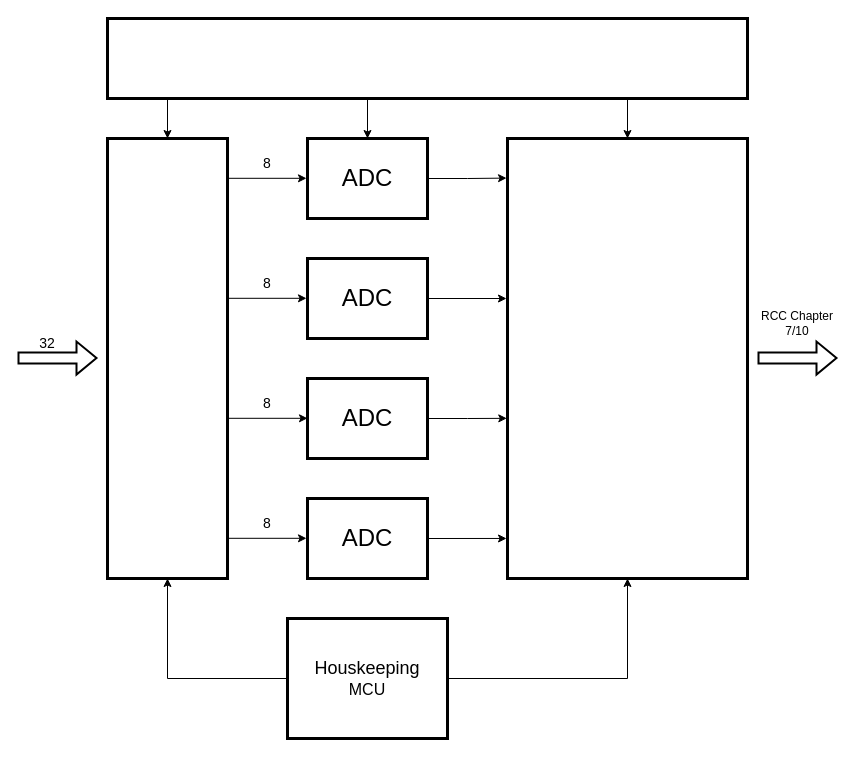
Some shapes in this 854 by 757 pixel diagram are drawn without their labels. The shapes that lost their labels are listed below. From the top down, each one's centre as x and y in pixels, then its label:
At (x=427, y=58): "POWER SYSTEM".
At (x=167, y=358): "AFE".
At (x=627, y=358): "FPGA".
